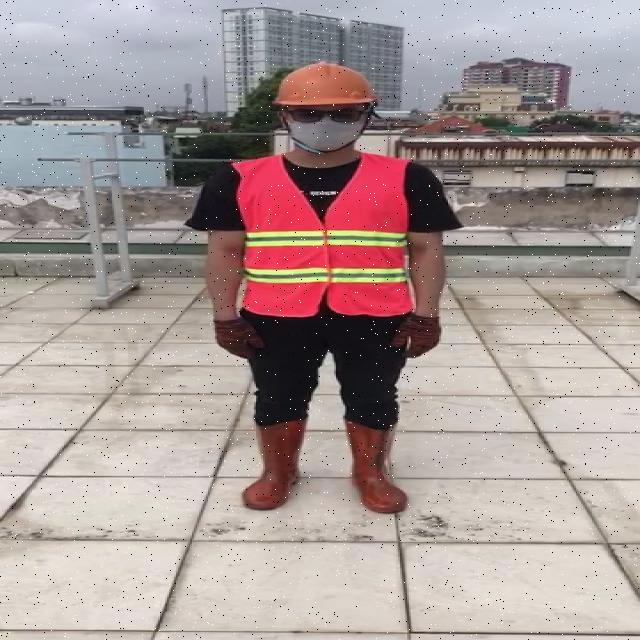Hard_hat: (266, 56, 383, 117)
Person: (176, 65, 463, 539)
Vest: (239, 151, 418, 316)
